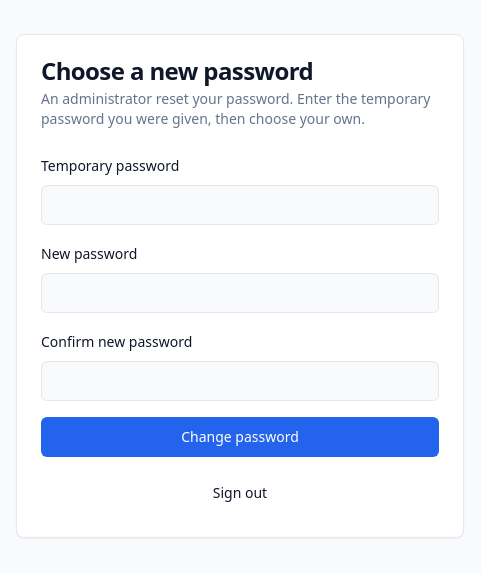
Test: ForcedPasswordChange sign out (real query client) › a failed sign out shows the error, stays on the screen and does not reject unhandled
Click the button "Sign out": (240, 493) [41,473,439,513]
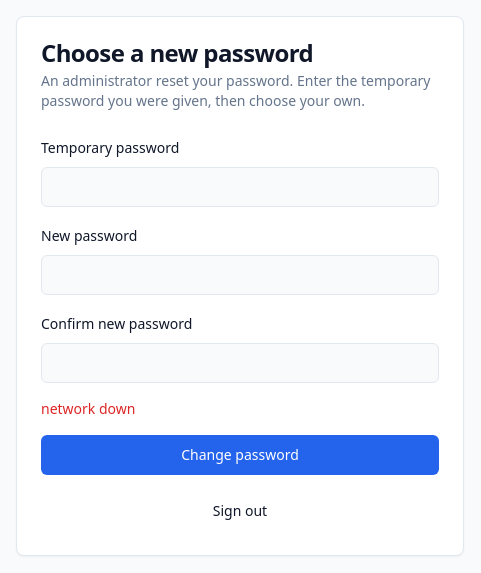
Expected: the button "Change password" is shown, [41,435,439,475]
Expected: the message reads "network down", [41,399,135,418]
